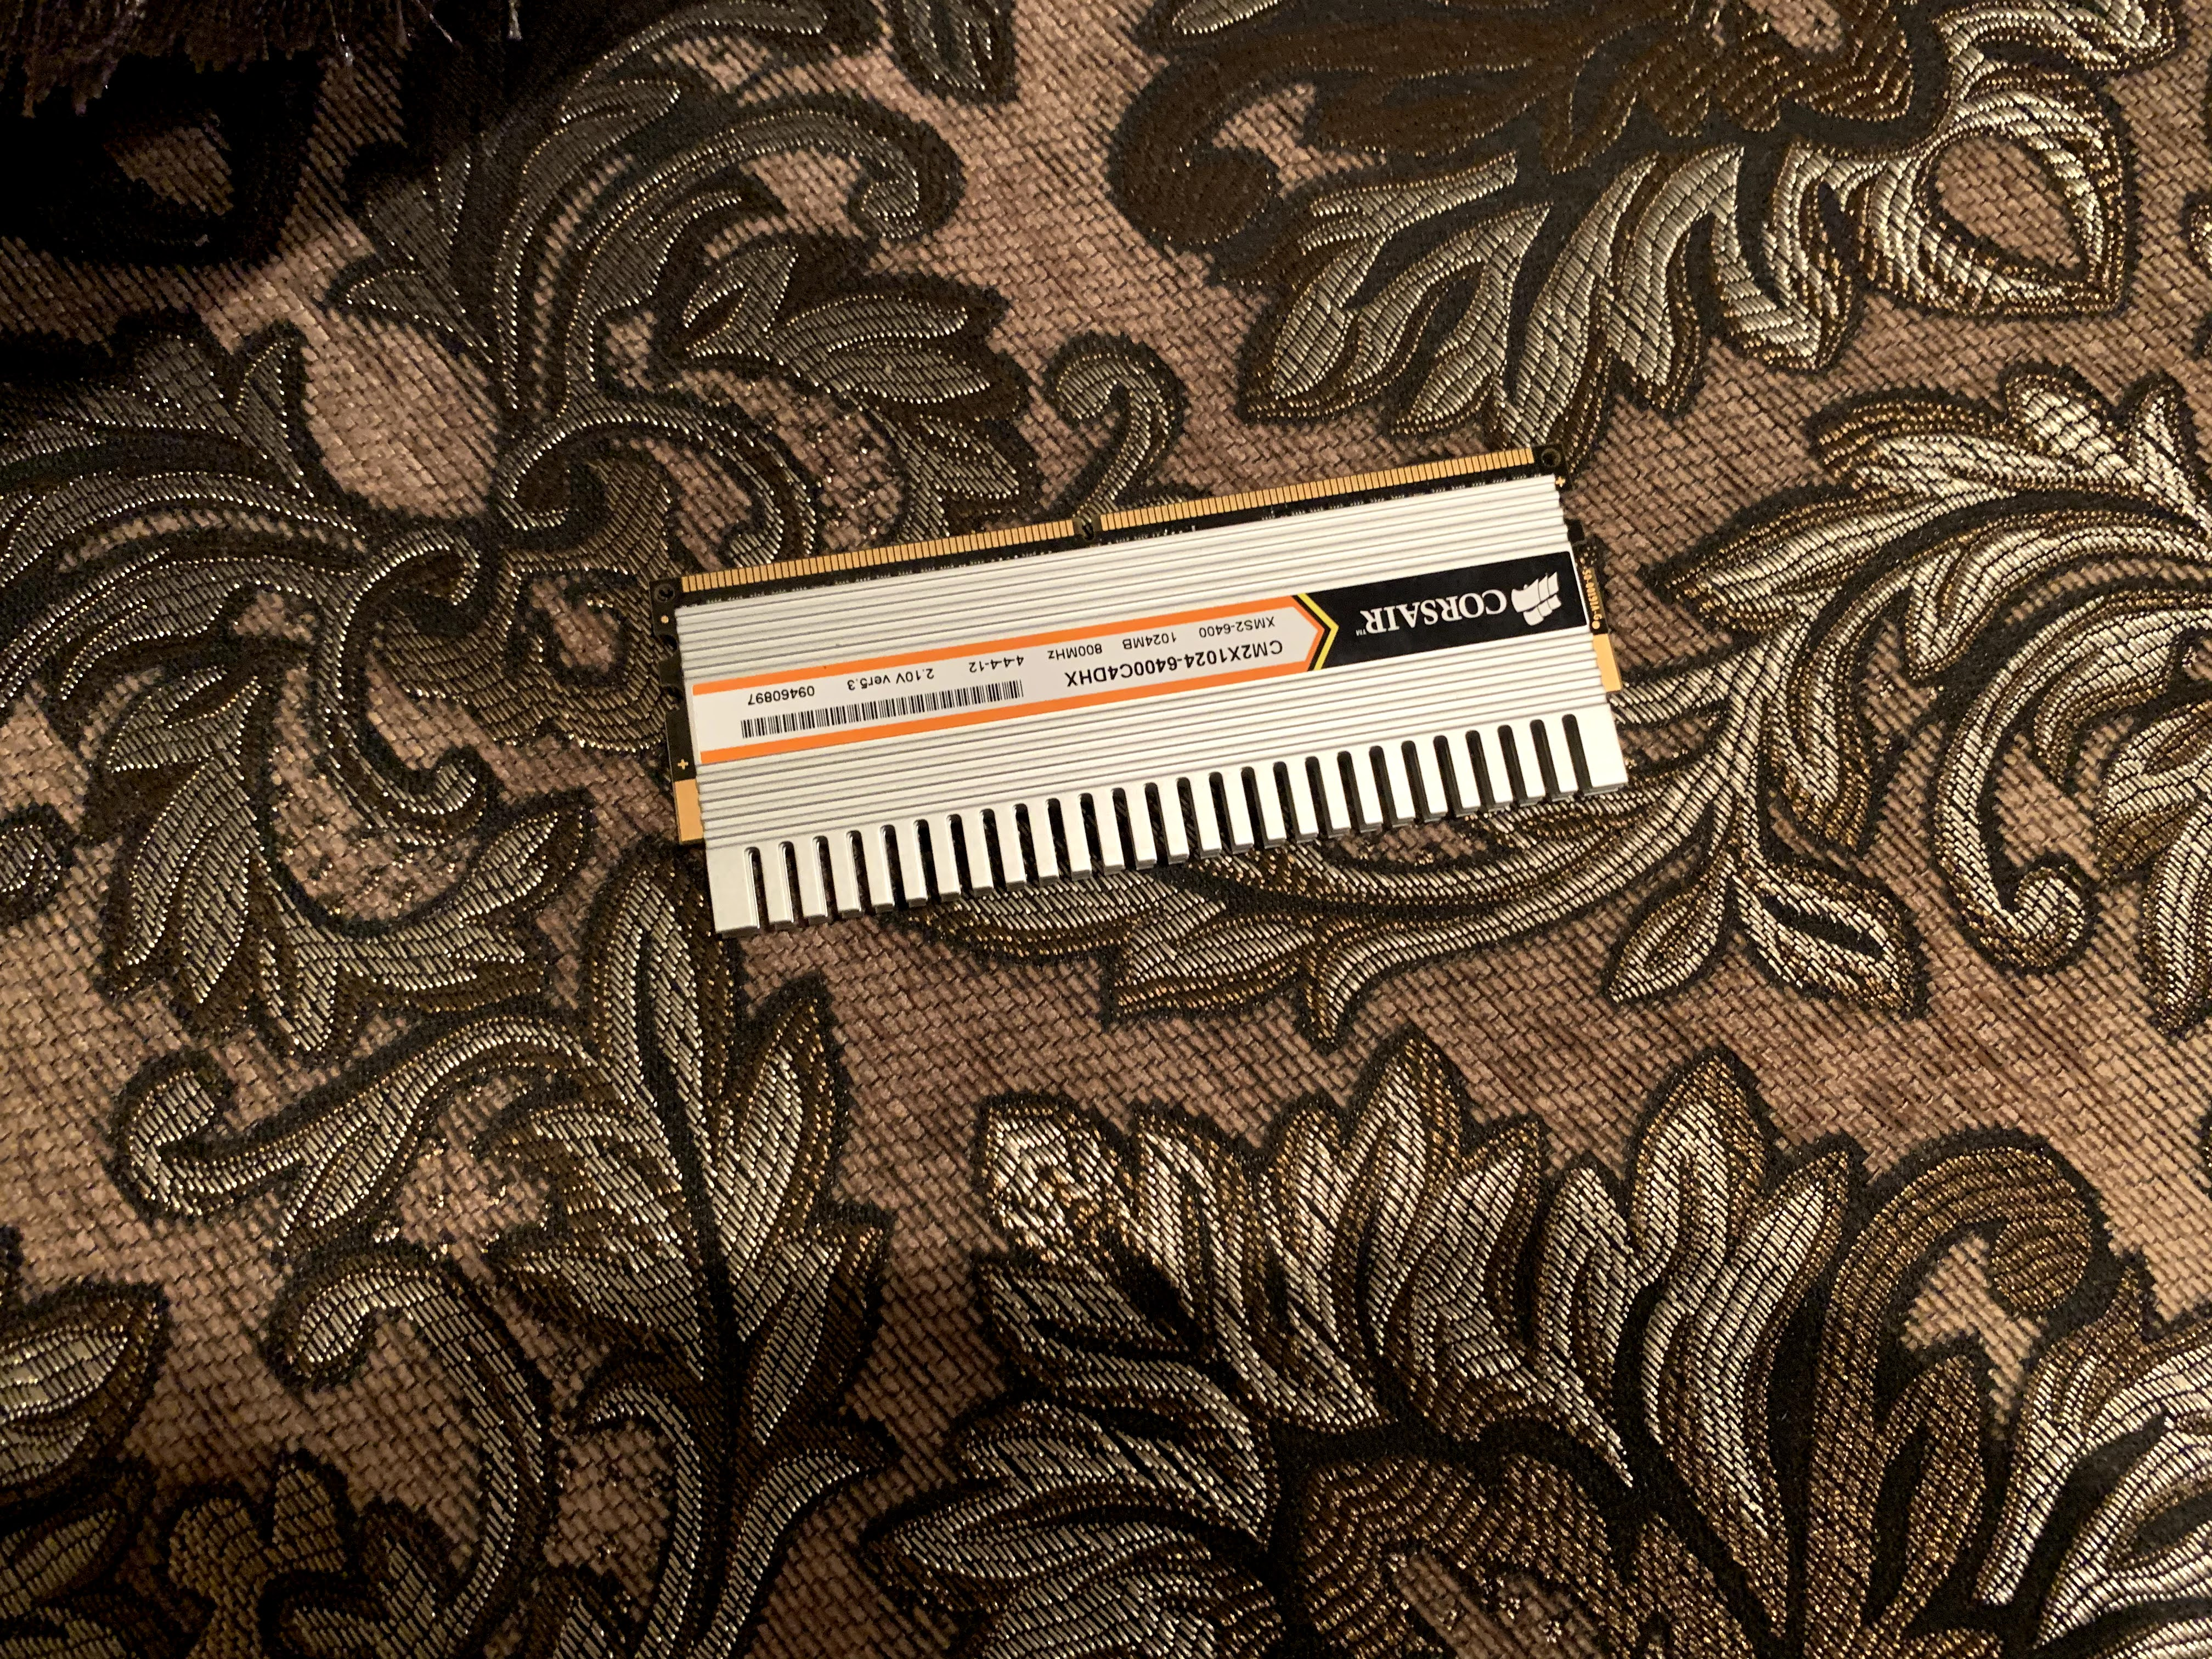Space-debris-medium: (615, 448, 1693, 938)
